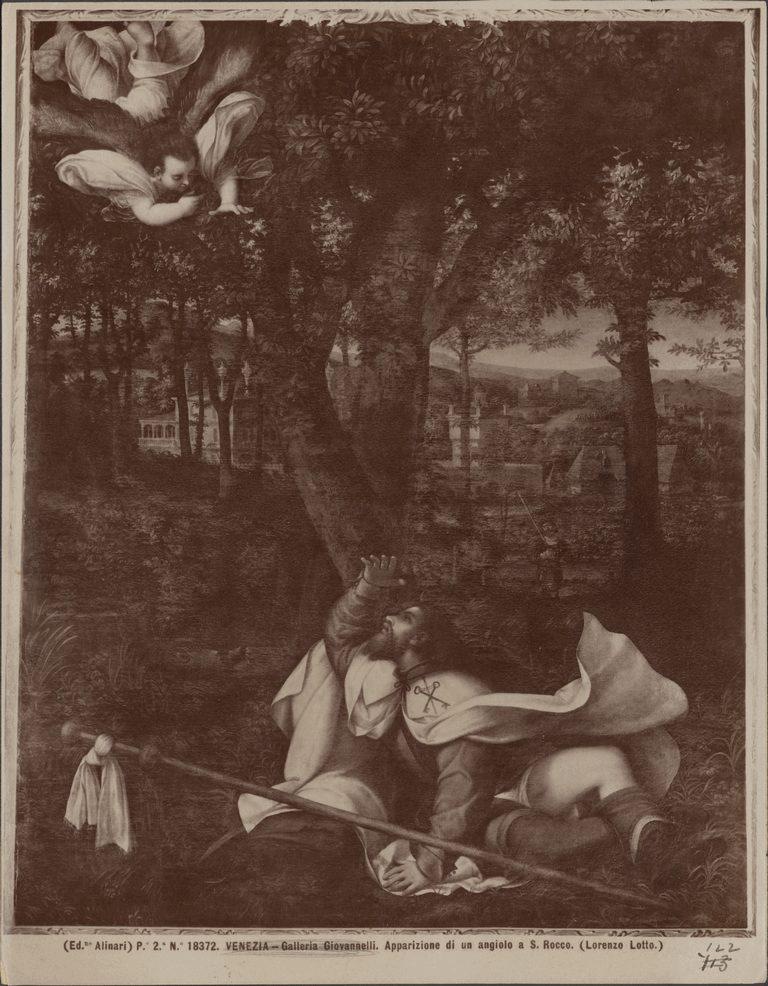angel: (31, 21, 266, 229)
knight: (296, 561, 686, 878)
lance: (57, 715, 687, 908)
tree: (231, 13, 502, 548), (502, 22, 741, 573), (28, 228, 265, 481)
